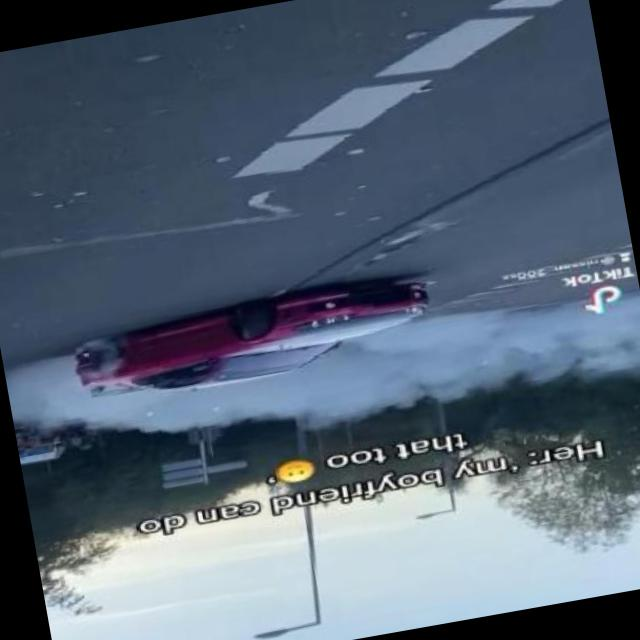car: (60, 269, 442, 410)
